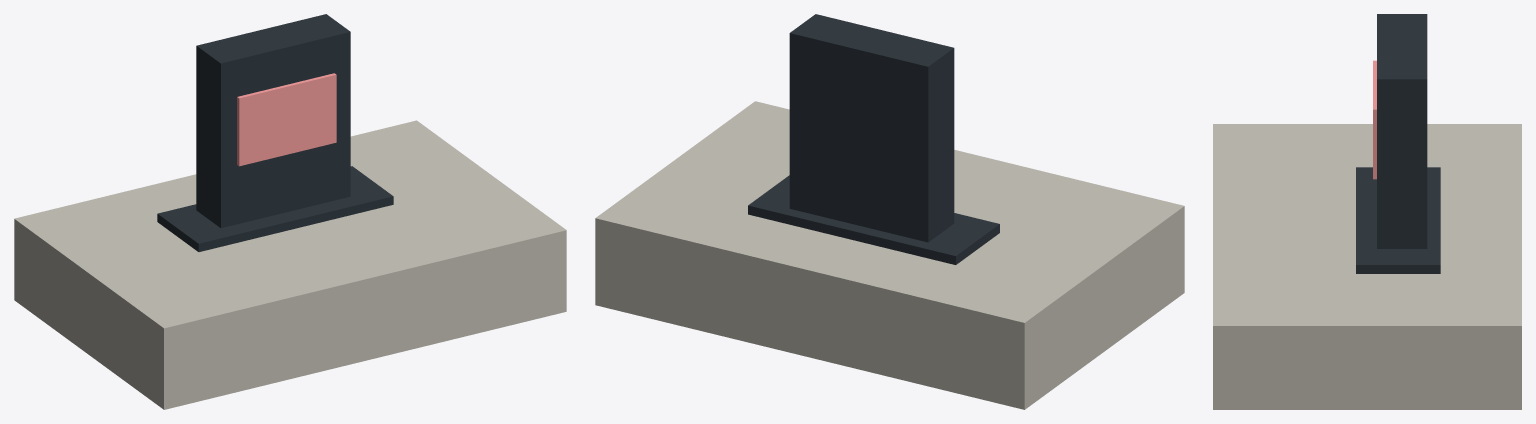
File: cartridge-console-lod2.glb
The picture shows the model from 3 angles, left to right: view 1: azimuth 30°, elevation 25°; view 2: azimuth 150°, elevation 25°; view 3: azimuth 270°, elevation 25°; orthographic projection. The views are drawn at different scales.
Visible parts, largest first — view 1: console, cartridge, cartridge_label, slot; view 2: console, cartridge, slot; view 3: console, cartridge, slot, cartridge_label.
Part boxes in pixels (bbox=[...]): console: bbox=[14, 120, 566, 409]; cartridge: bbox=[196, 14, 350, 228]; cartridge_label: bbox=[237, 73, 336, 166]; slot: bbox=[157, 166, 393, 251]; console: bbox=[595, 101, 1184, 409]; cartridge: bbox=[789, 14, 954, 242]; slot: bbox=[748, 175, 999, 264]; console: bbox=[1213, 124, 1521, 409]; cartridge: bbox=[1377, 14, 1427, 248]; slot: bbox=[1356, 167, 1440, 273]; cartridge_label: bbox=[1373, 60, 1376, 179].
Bounding box in the file's own units: 6.2 × 3.75 × 4.
